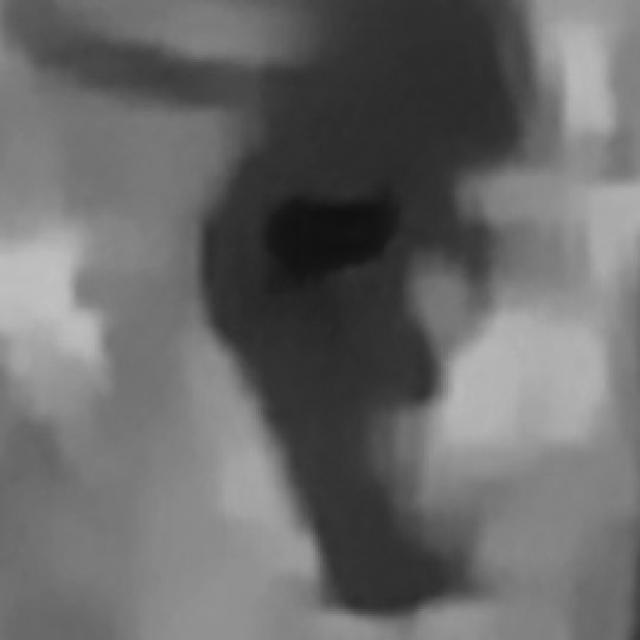Weapon: (17, 4, 628, 627)
